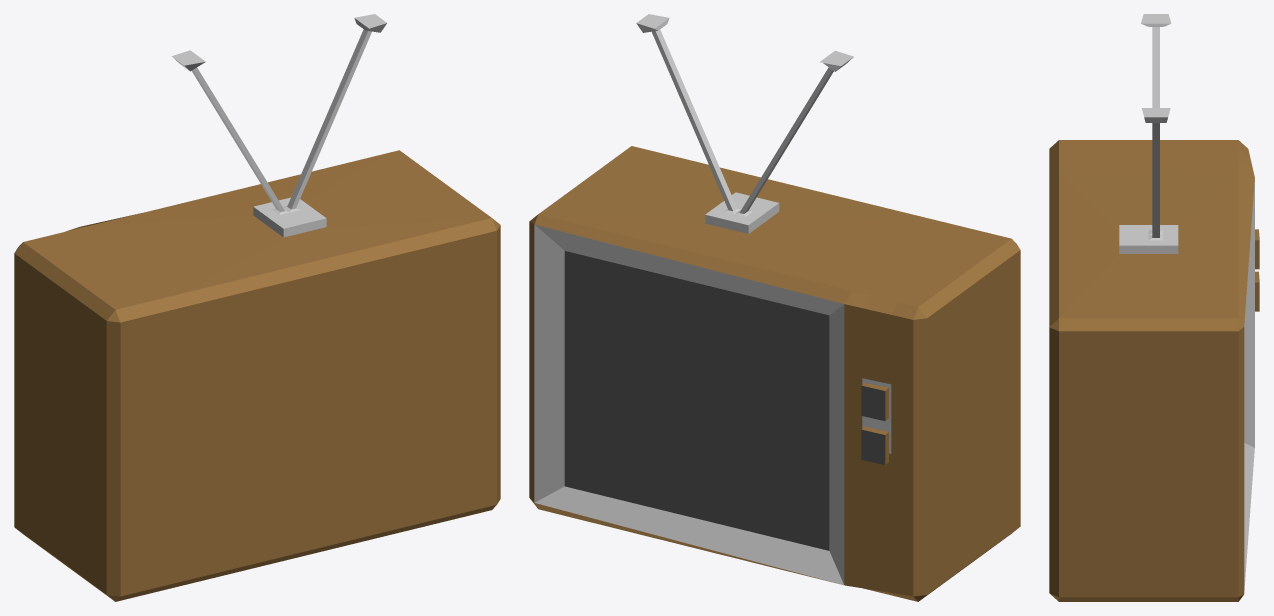
3 renders of one model, left to right at view 1: azimuth 30°, elevation 25°; view 2: azimuth 150°, elevation 25°; view 3: azimuth 270°, elevation 25°, orthographic. The views are drawn at different scales.
Visible parts, largest first — view 1: TV; view 2: TV; view 3: TV.
Boxes of the visible parts, box(x1,y1,x2,y2) form: TV: box(14, 14, 500, 601); TV: box(529, 14, 1020, 601); TV: box(1049, 14, 1259, 601).
Bounding box in the file's own units: 0.5754 × 0.6658 × 0.2744.
